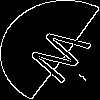W: (24, 25, 100, 89)
